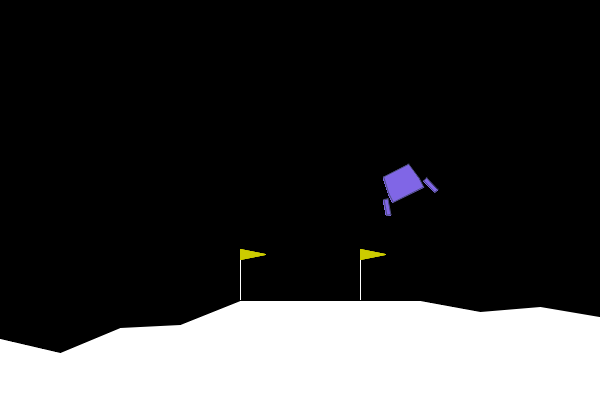lander: (368, 156, 440, 218)
